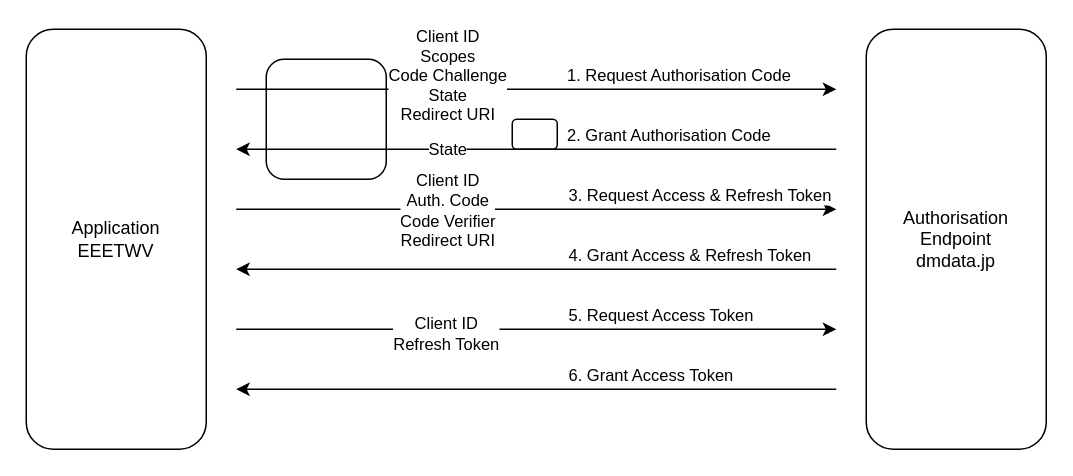
Some shapes in this 1073 by 476 pixel diagram are drawn without their labels. Here are the shapes that lost their labels. From the top down, the centre of each, then its label:
At (325,118): "User Browser".
At (534,133): "User".
